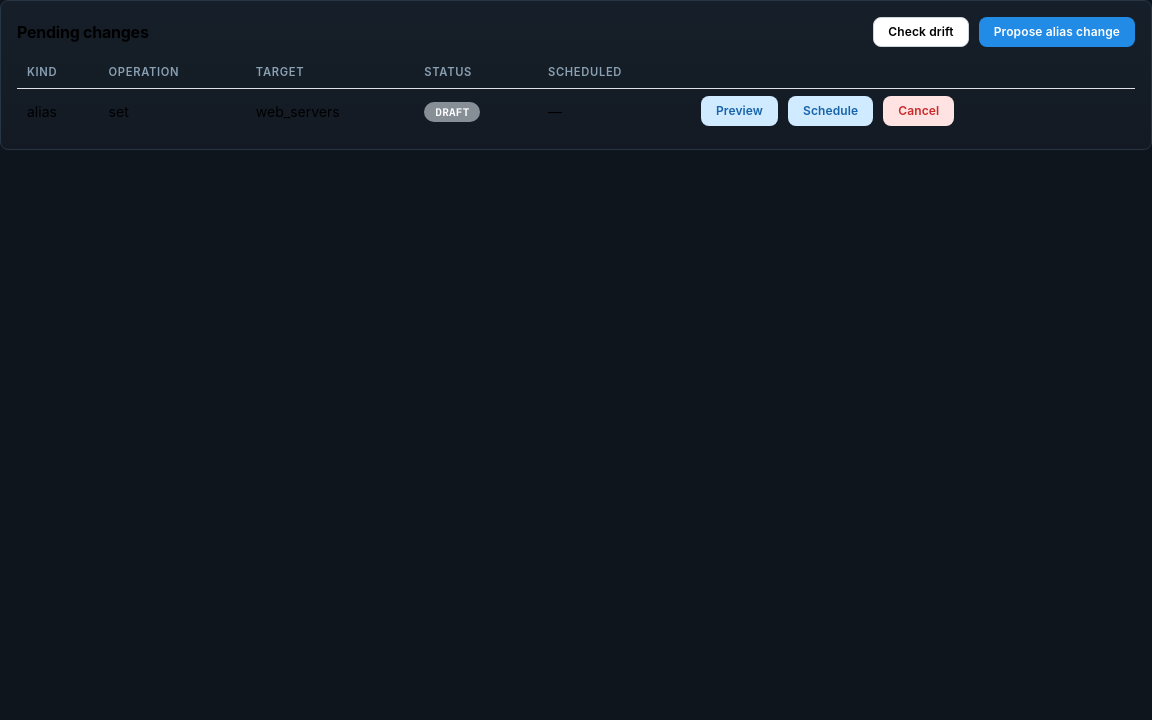
Test: ChangesPanel actions › Preview 403: modal shows error text and no secret content
This screenshot has width=1152, height=720.
Click the button "Preview": {"x": 739, "y": 111} 701,96 -> 778,126
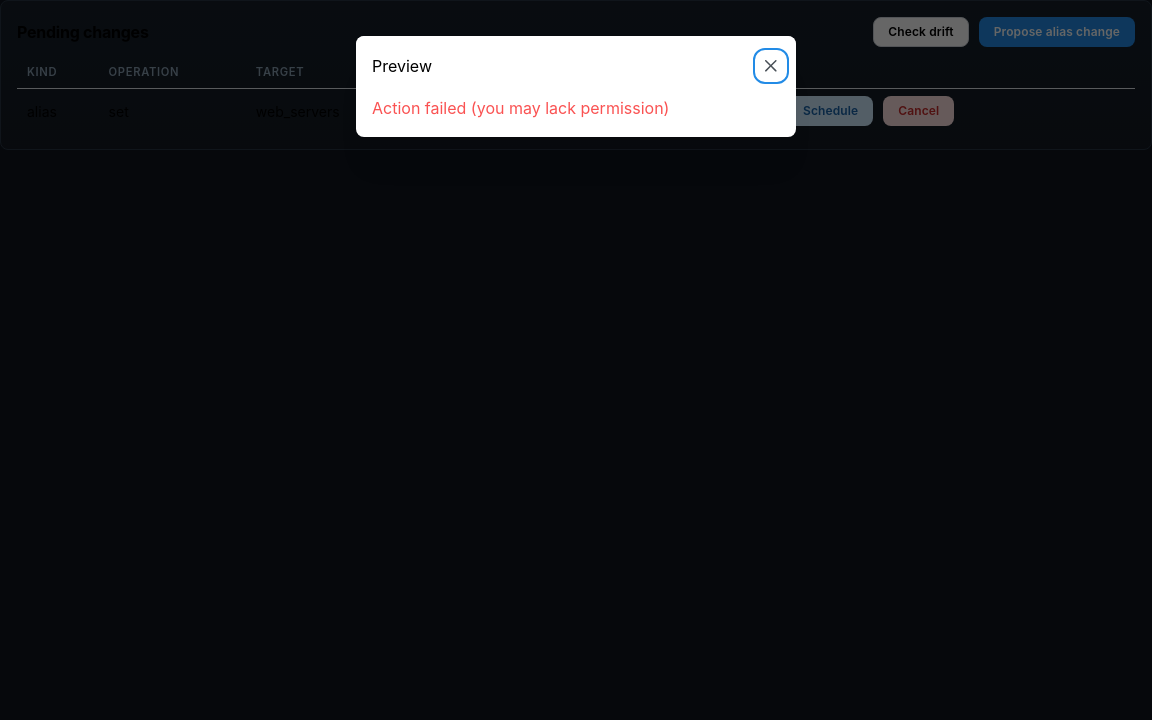
Expected: the text "Action failed (you may lack permission)" is shown, 372,98 -> 669,118
